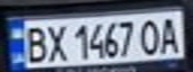1: (69, 20, 90, 60)
4: (87, 20, 106, 60)
6: (103, 19, 124, 58)
7: (115, 18, 139, 57)
A: (157, 15, 184, 54)
B: (21, 24, 51, 64)
O: (136, 16, 163, 55)
X: (42, 21, 69, 62)
